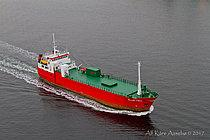Ship: (32, 26, 159, 120)
